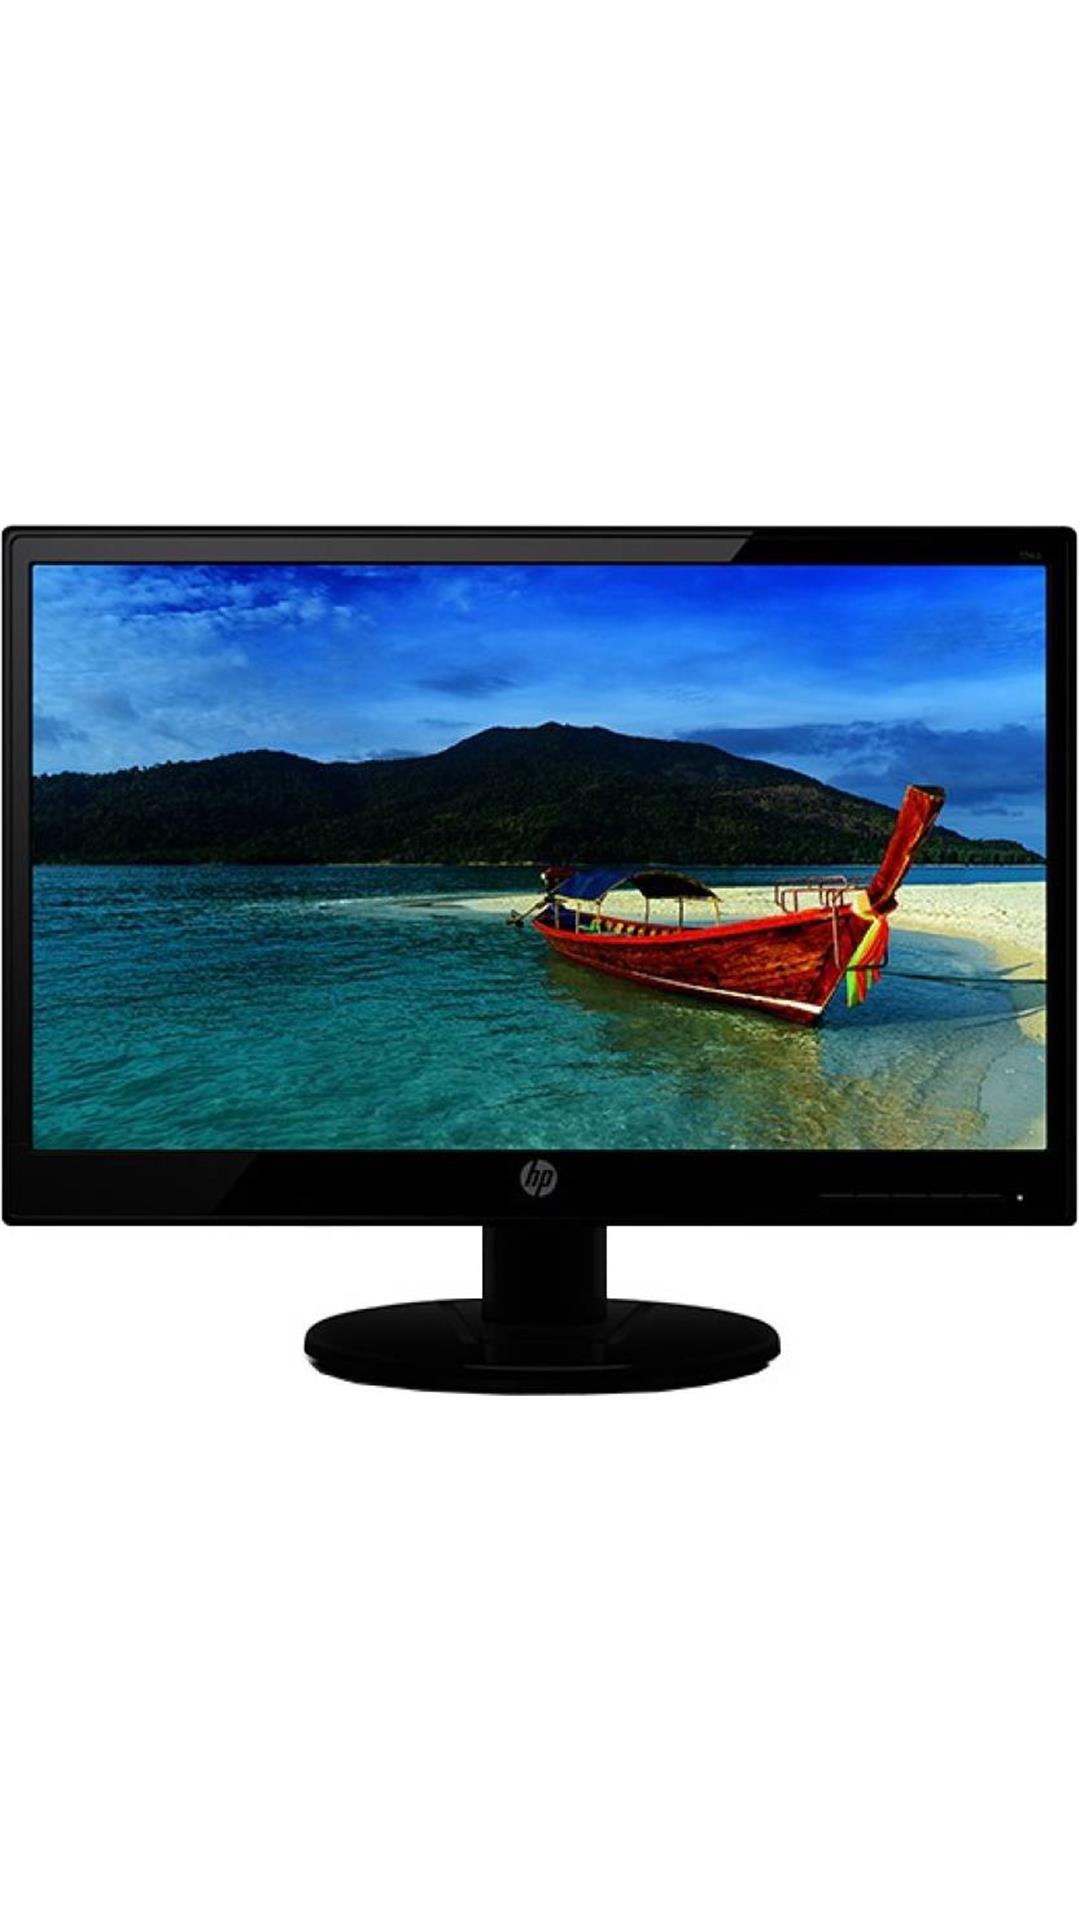hp-monitor-19ka: (1, 518, 1072, 1408)
